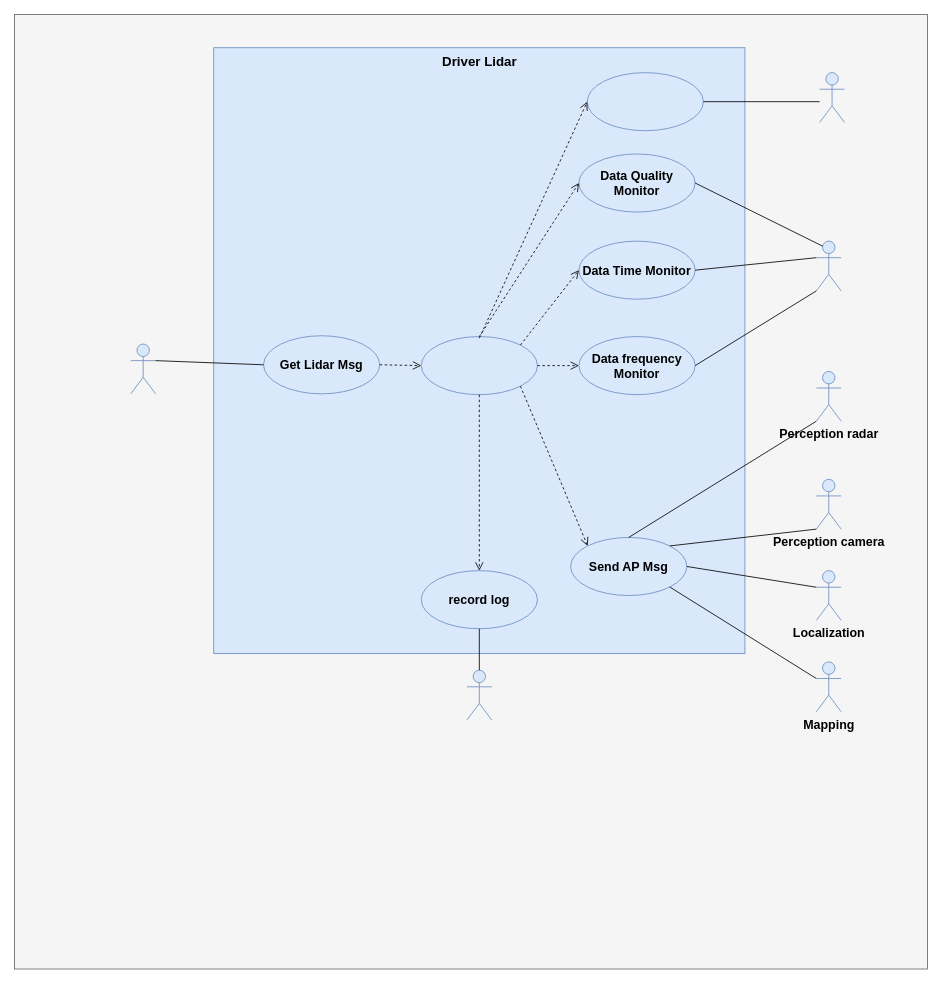
Image size: 942x984. Some labels were removed from this diagram. Here are the shapes that lost their labels. From the top down, the centre of each, then its label:
At point 644,101: "Set ROS Msg".
At point 832,97: "rviz".
At point 828,265: "Fsm".
At point 143,368: "Driver SDK".
At point 478,365: "Driver Lidar Process".
At point 479,694: "ara::log".
